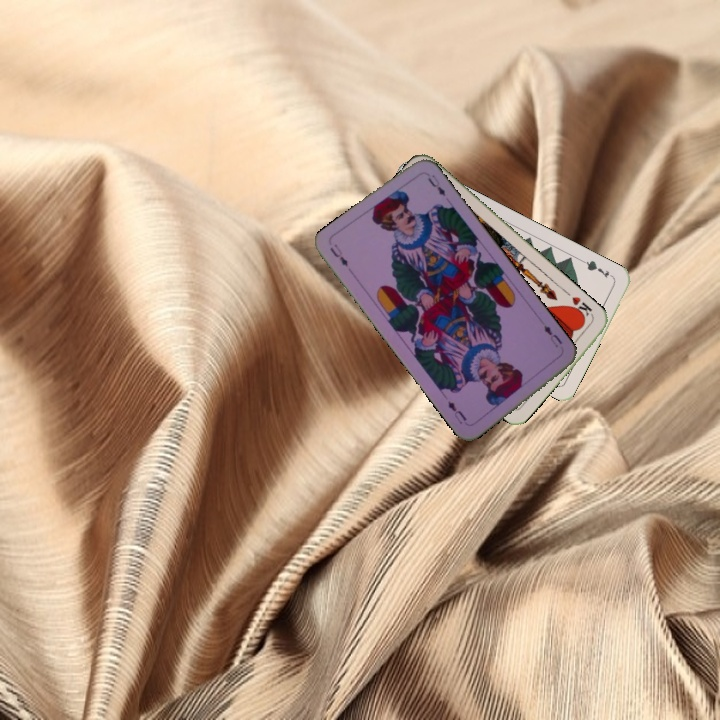EU: (540, 321, 565, 350), (326, 240, 351, 269)
G7: (578, 256, 616, 281)
HK: (564, 292, 596, 322)
